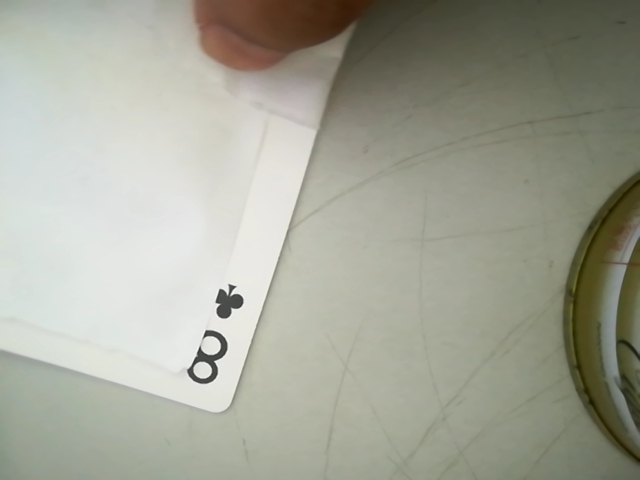mh 8: (182, 277, 255, 393)
